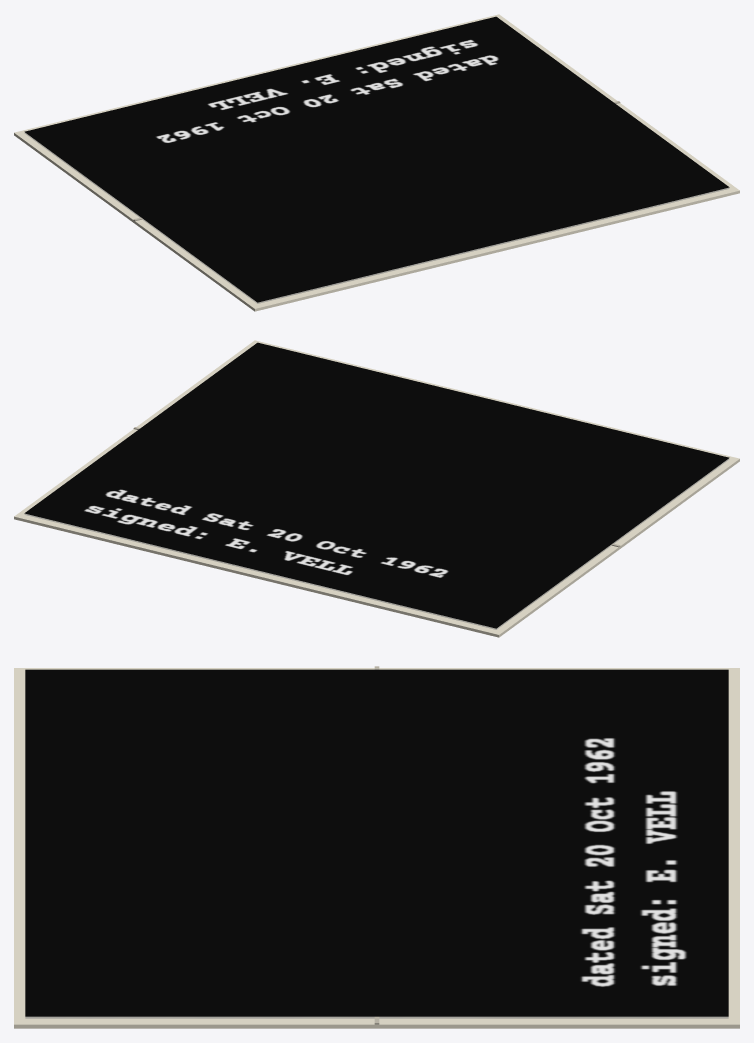
The model's file is requisition_vell.fbx.
3 views of the same model, one above another, from view 1: azimuth 30°, elevation 25°; view 2: azimuth 150°, elevation 25°; view 3: azimuth 270°, elevation 25° (orthographic). The views are drawn at different scales.
Visible parts, largest first — view 1: UV_requisition_vell, requisition_vell; view 2: UV_requisition_vell, requisition_vell; view 3: UV_requisition_vell, requisition_vell.
Part boxes in pixels (box(x1,y1,x2,y2)): UV_requisition_vell: box(24, 16, 729, 302); requisition_vell: box(14, 14, 739, 311); UV_requisition_vell: box(24, 342, 729, 628); requisition_vell: box(14, 340, 739, 637); UV_requisition_vell: box(25, 669, 728, 1016); requisition_vell: box(14, 666, 739, 1028).
Size of the model in its own units: 0.15 by 0.0014 by 0.129.
